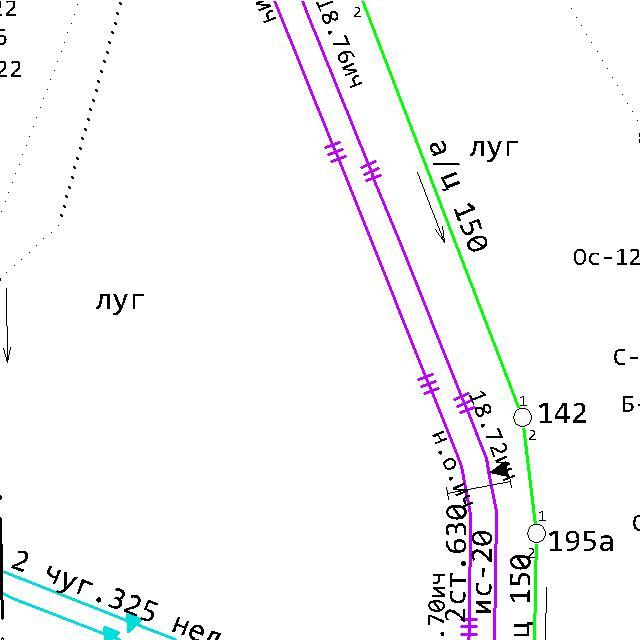mark: (487, 459, 510, 480)
well: (509, 404, 536, 431), (523, 520, 550, 546)
